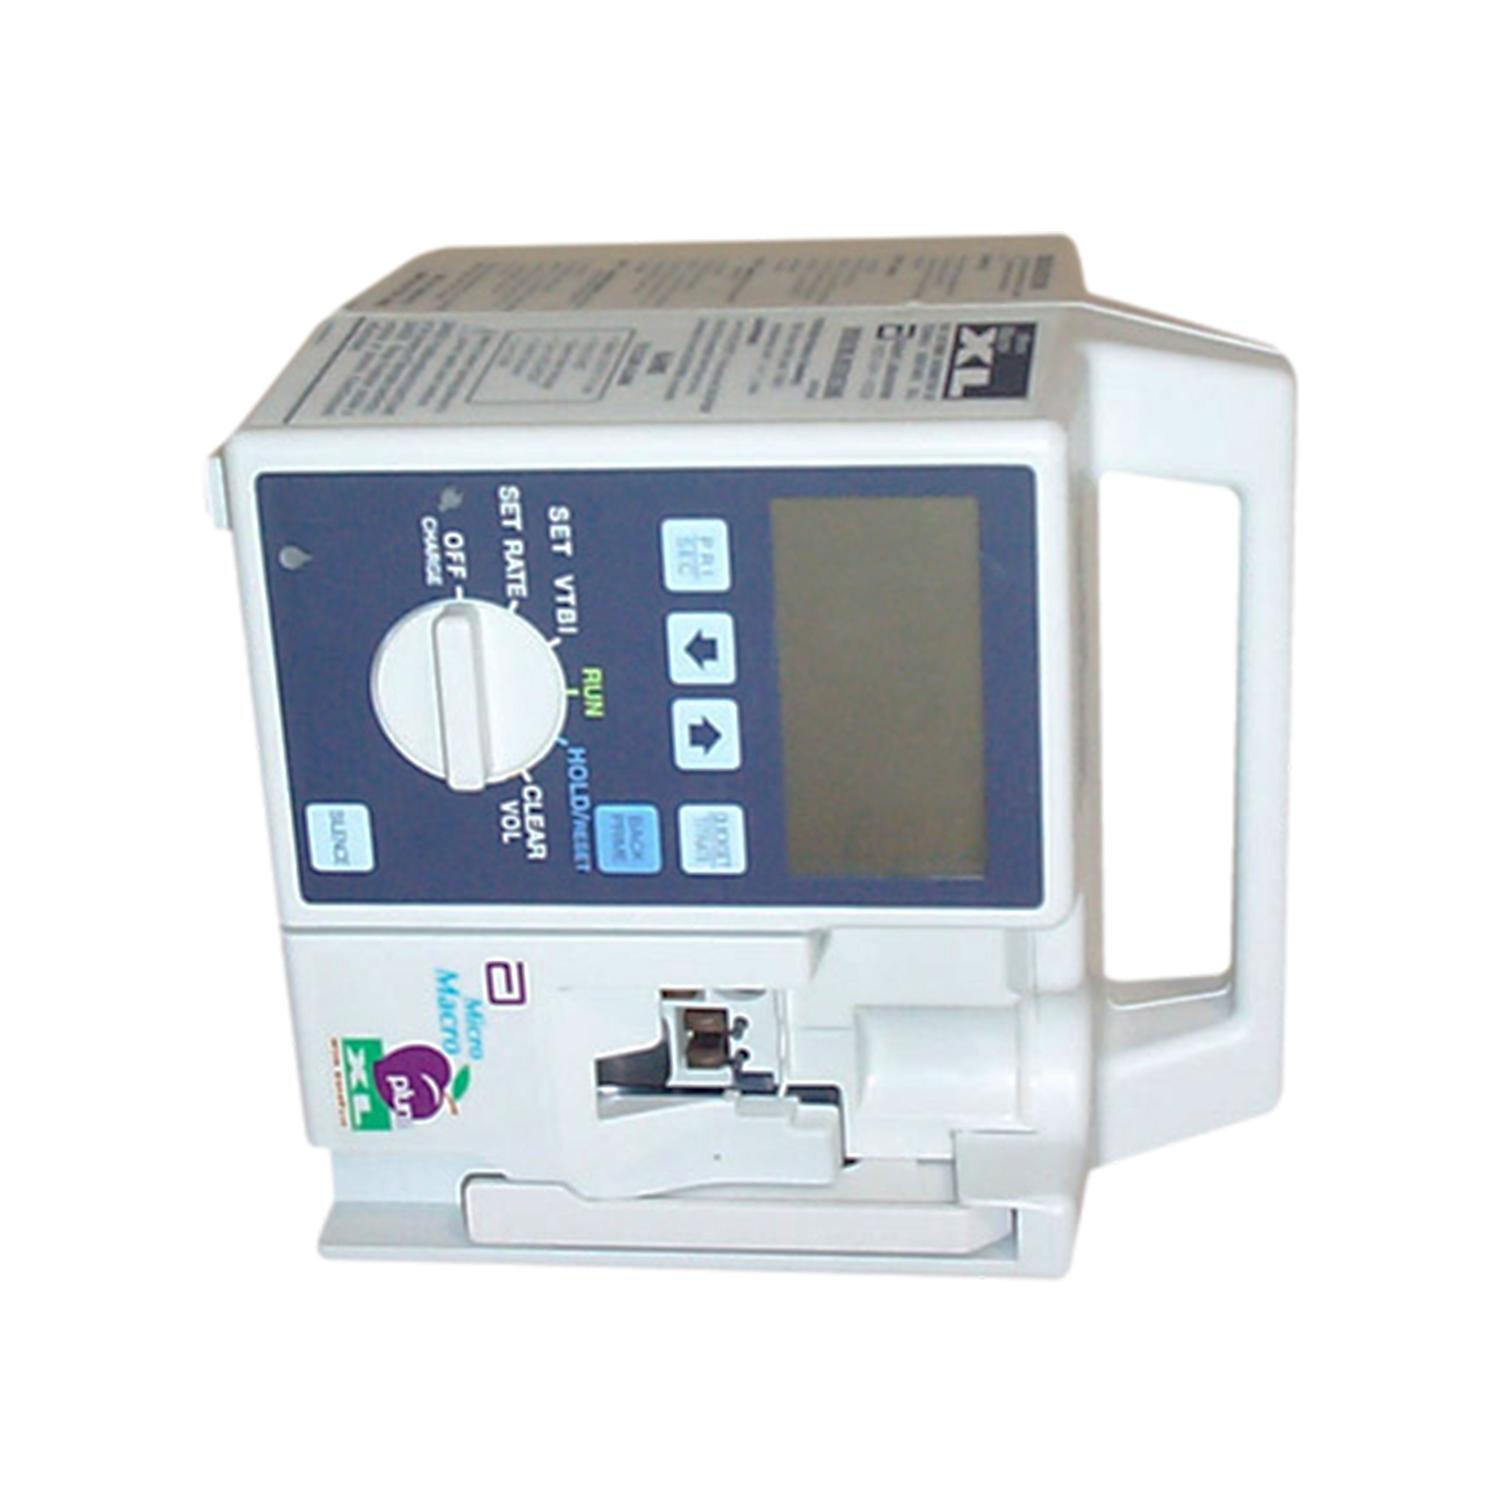plumxl1: (194, 157, 1305, 1320)
